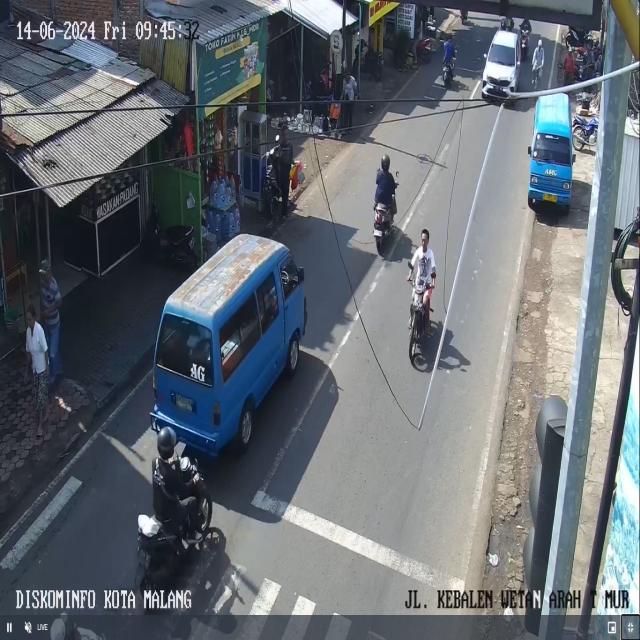Helmet: (157, 426, 176, 459), (381, 154, 390, 171), (537, 39, 542, 47), (447, 32, 452, 39)
Number Plate: (175, 394, 193, 411), (543, 193, 557, 202), (373, 230, 382, 236)
Rearview Mirror: (297, 267, 304, 283), (407, 260, 412, 268), (527, 146, 531, 155), (572, 153, 575, 163), (275, 135, 279, 142), (483, 53, 486, 58)
